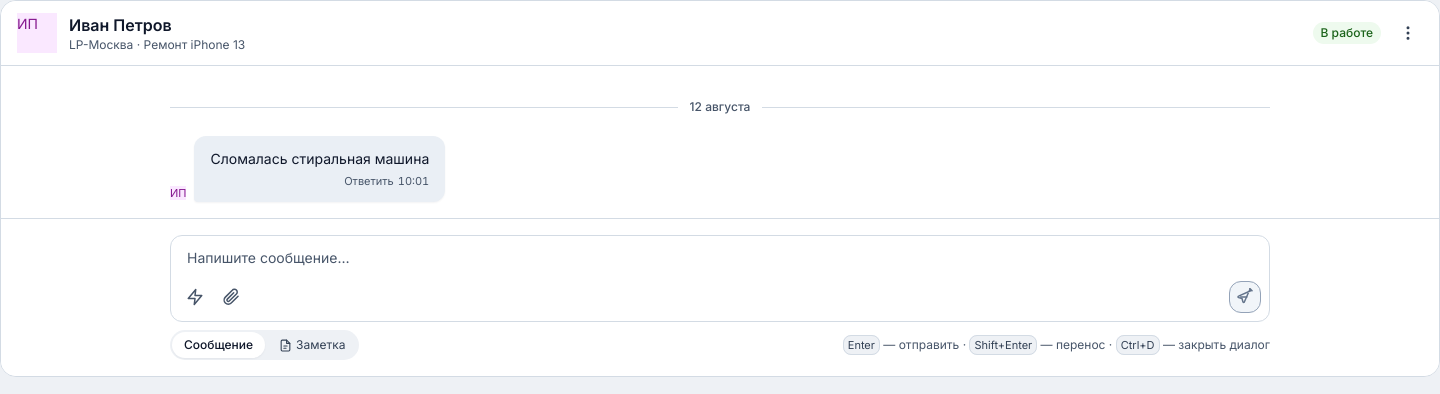
Шапка ленты — идентичность диалога и ничего сверх › вторичные действия — только в меню «…», ряда иконок в шапке больше нет
Click the button named "Действия с диалогом": point(1408, 33) [1393,18,1423,48]
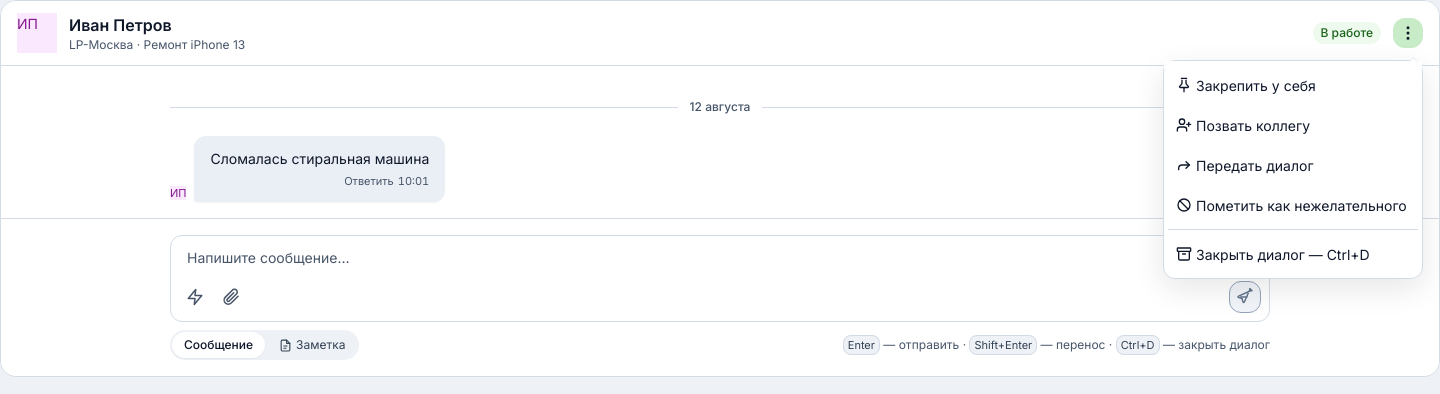
Result: the menu item "Позвать коллегу" is shown at [1168,104,1418,144]
Result: the menu item "Передать диалог" is shown at [1168,144,1418,184]
Result: the menu item "Пометить как нежелательного" is shown at [1168,184,1418,224]
